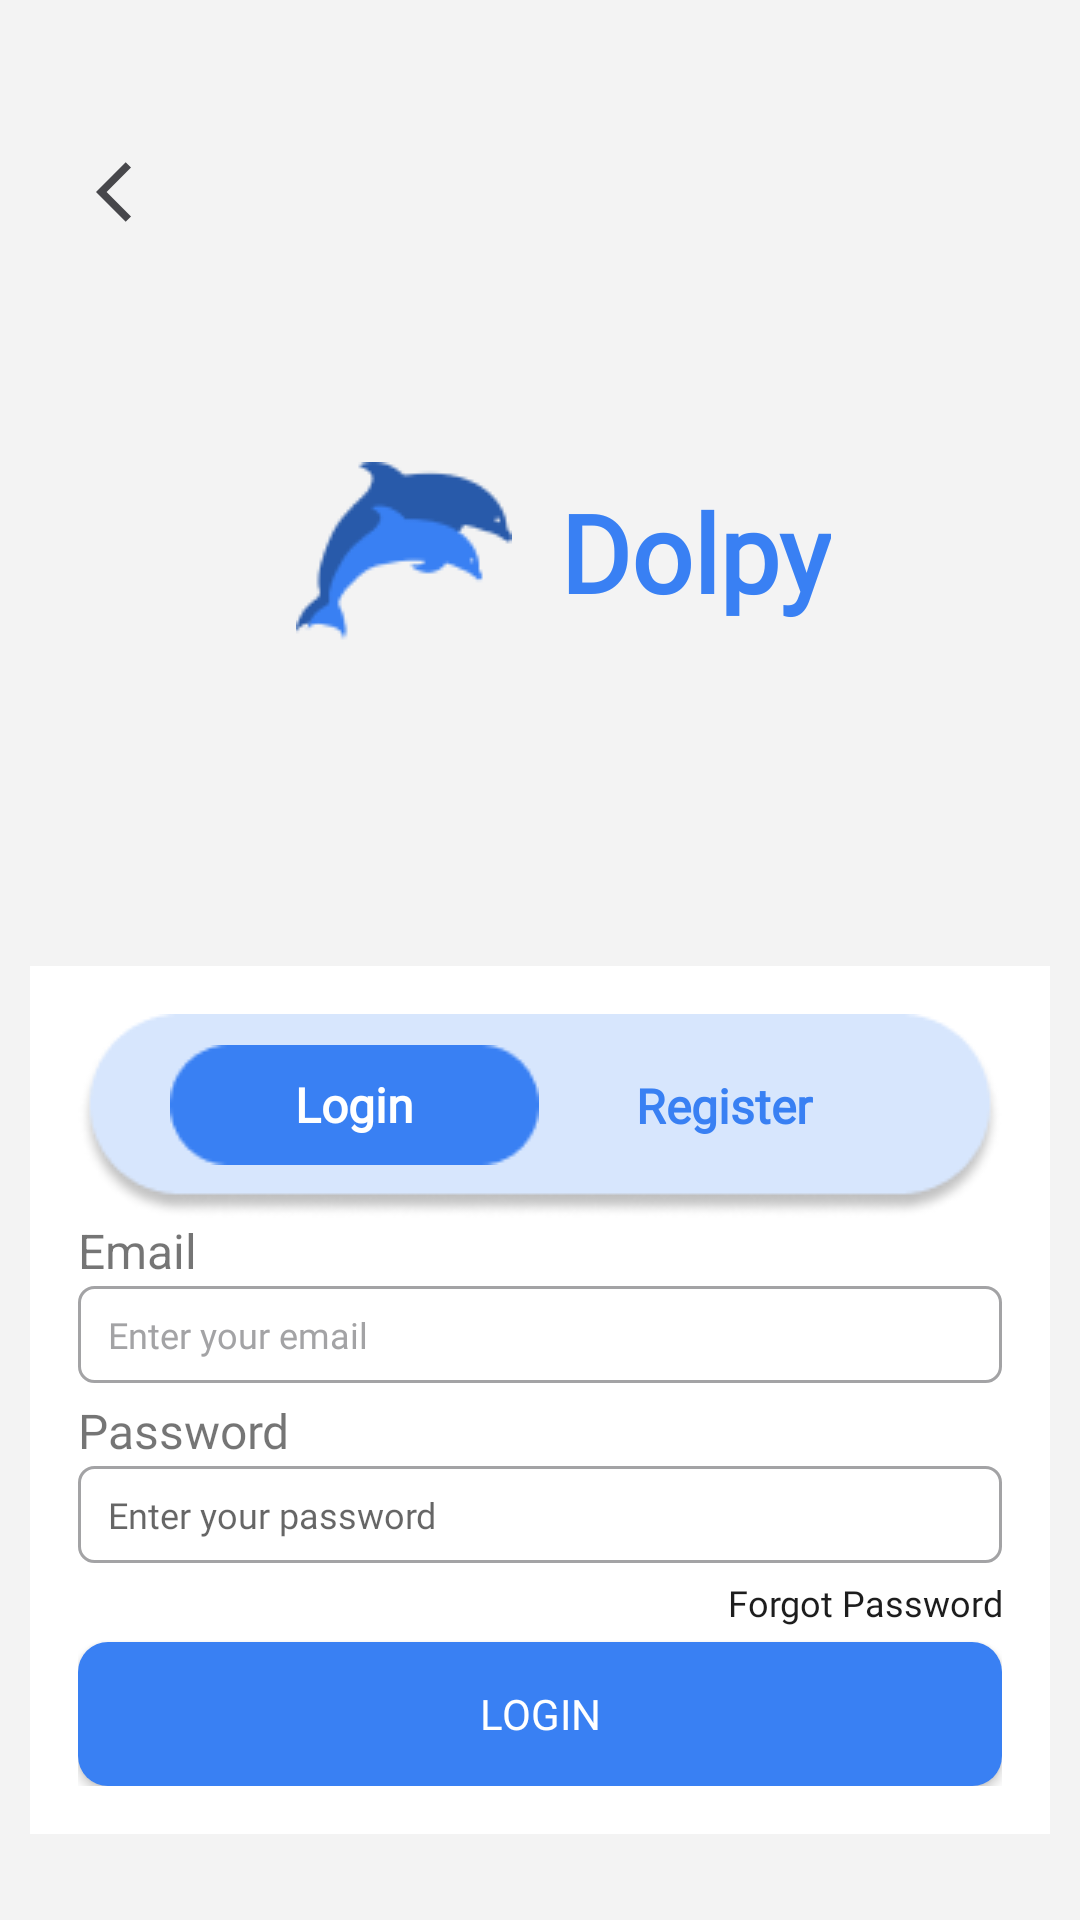

Named icons in this screenshot (1080px x 1920px) and their centers, [x,y]:
arrow back: [113,192]
